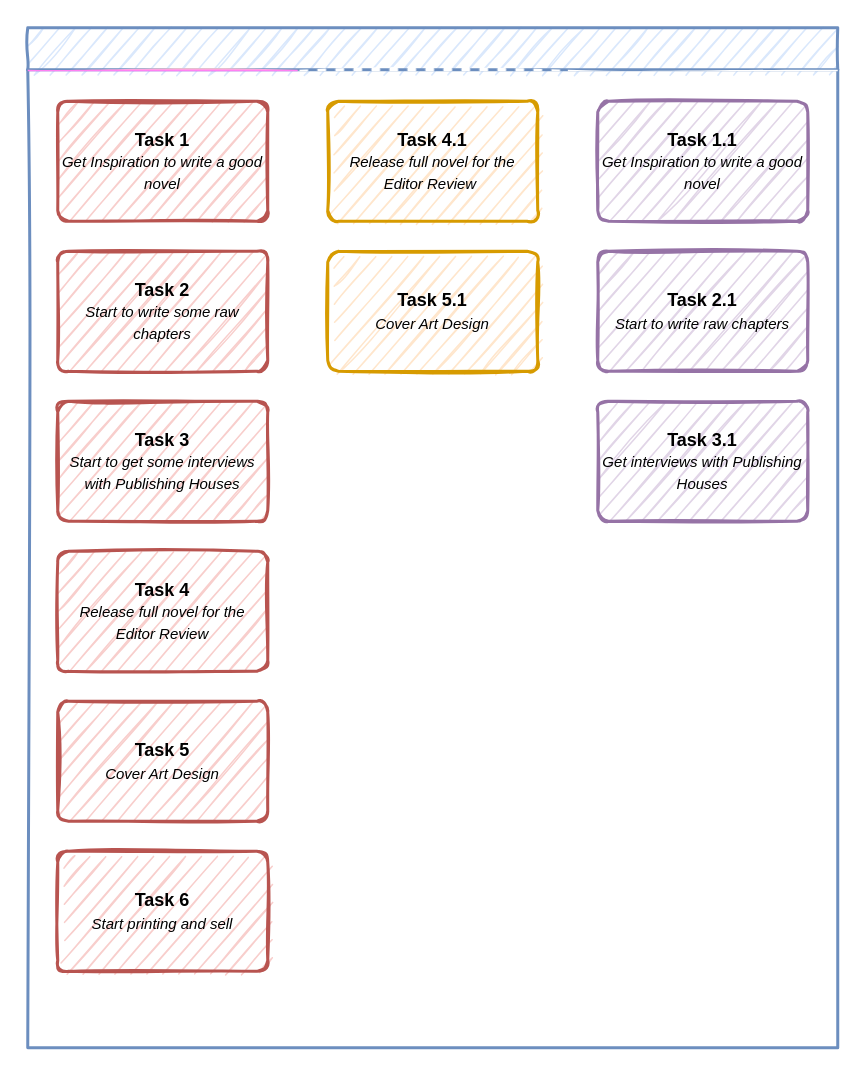
The diagram is 864 pixels wide and 1074 high, and some of its shapes have lost their labels. Each missing label, with the box of its shape:
DOING: (297, 69, 567, 1047)
DONE: (567, 69, 837, 1047)
TO DO: (27, 69, 297, 1047)
